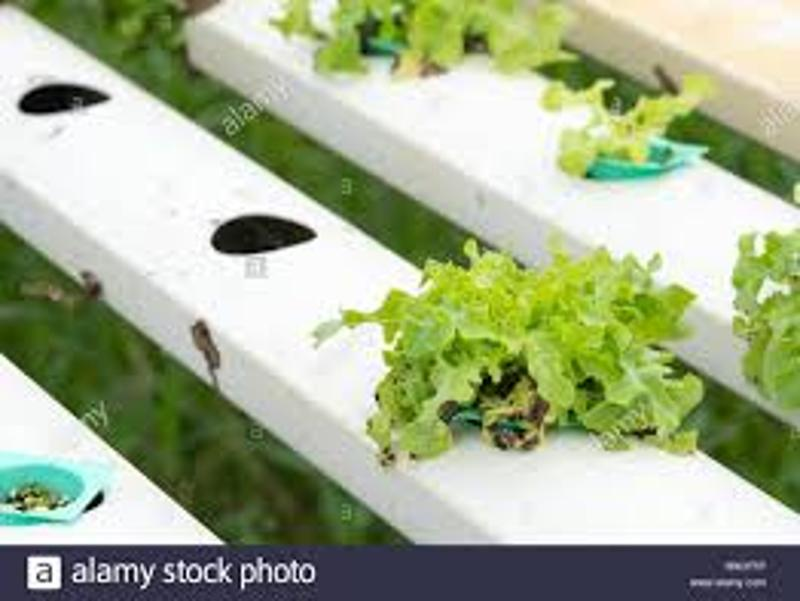green lettuce: (359, 236, 711, 473), (548, 70, 709, 172)
